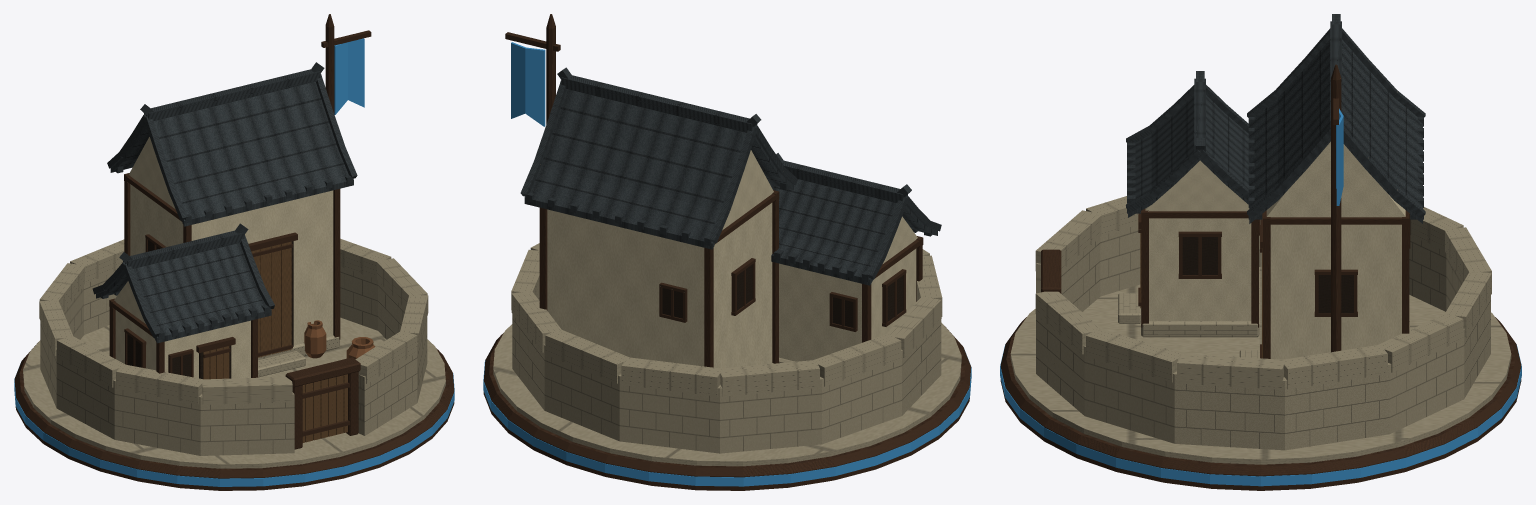
File: tk-village-blue.fbx
3 views of the same model, side by side, from view 1: azimuth 30°, elevation 25°; view 2: azimuth 150°, elevation 25°; view 3: azimuth 270°, elevation 25° (orthographic). The views are drawn at different scales.
Visible parts, largest first — view 1: tk-village-blue; view 2: tk-village-blue; view 3: tk-village-blue.
Part boxes in pixels (left/top/right/bottom): tk-village-blue: left=14, top=14, right=454, bottom=490; tk-village-blue: left=483, top=14, right=971, bottom=490; tk-village-blue: left=1000, top=14, right=1521, bottom=490.
Bounding box in the file's own units: 0.013 × 0.0108 × 0.013.
2 materials, 1 textured.
